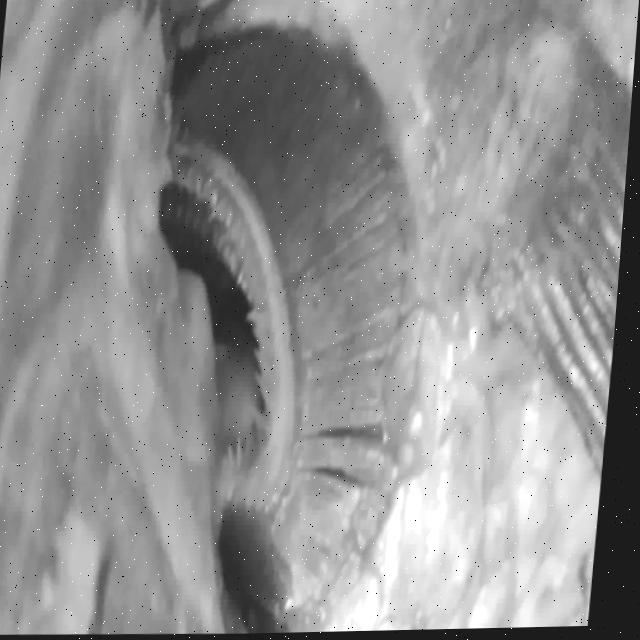Non-Fresh: (133, 0, 511, 637)
